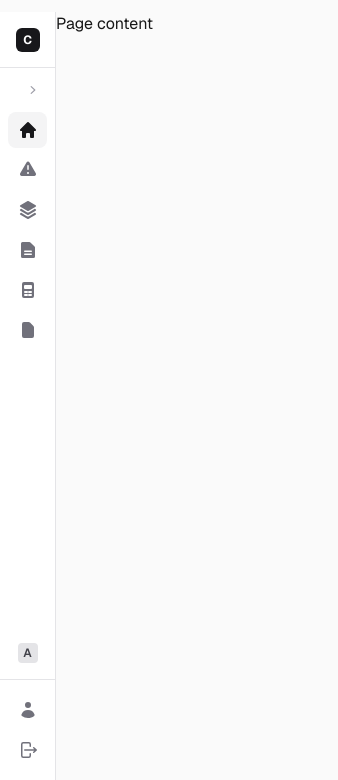
Test: AnalyticsSidebarTenantSwitcher › opens tenant picker dropdown on click
The image size is (338, 780).
Click the button named "Expand sidebar".
click(33, 90)  # box 19,76 -> 47,104
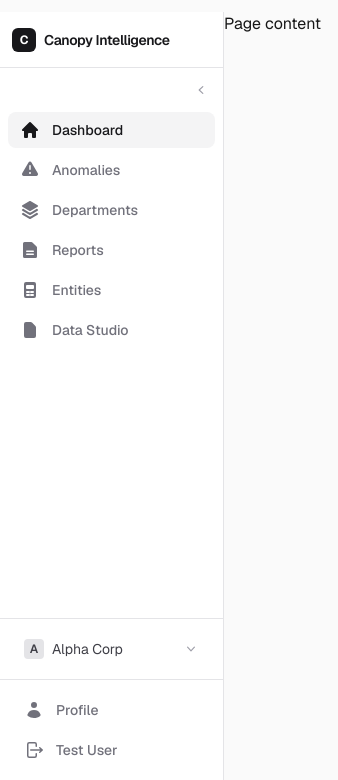
Click the text "Alpha Corp".
click(87, 649)  # box 52,639 -> 123,659
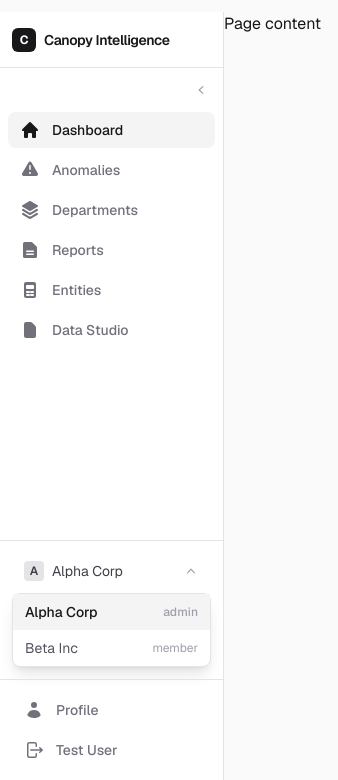
expect the text "Beta Inc" is shown: met, box 25,638 -> 78,658
expect the text "admin" is shown: met, box 163,604 -> 198,620
expect the text "member" is shown: met, box 152,640 -> 198,656
